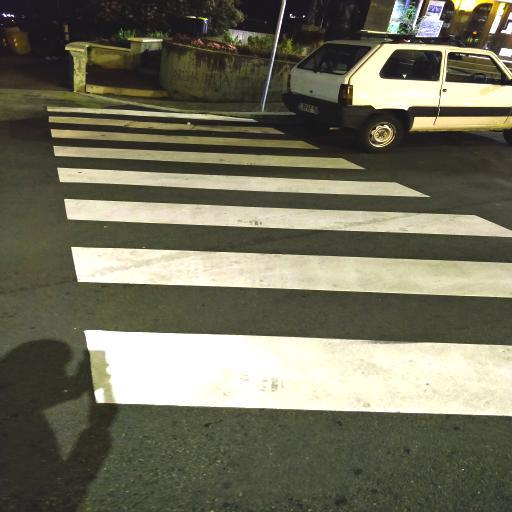crosswalk: (63, 242, 511, 420), (48, 142, 439, 200)
